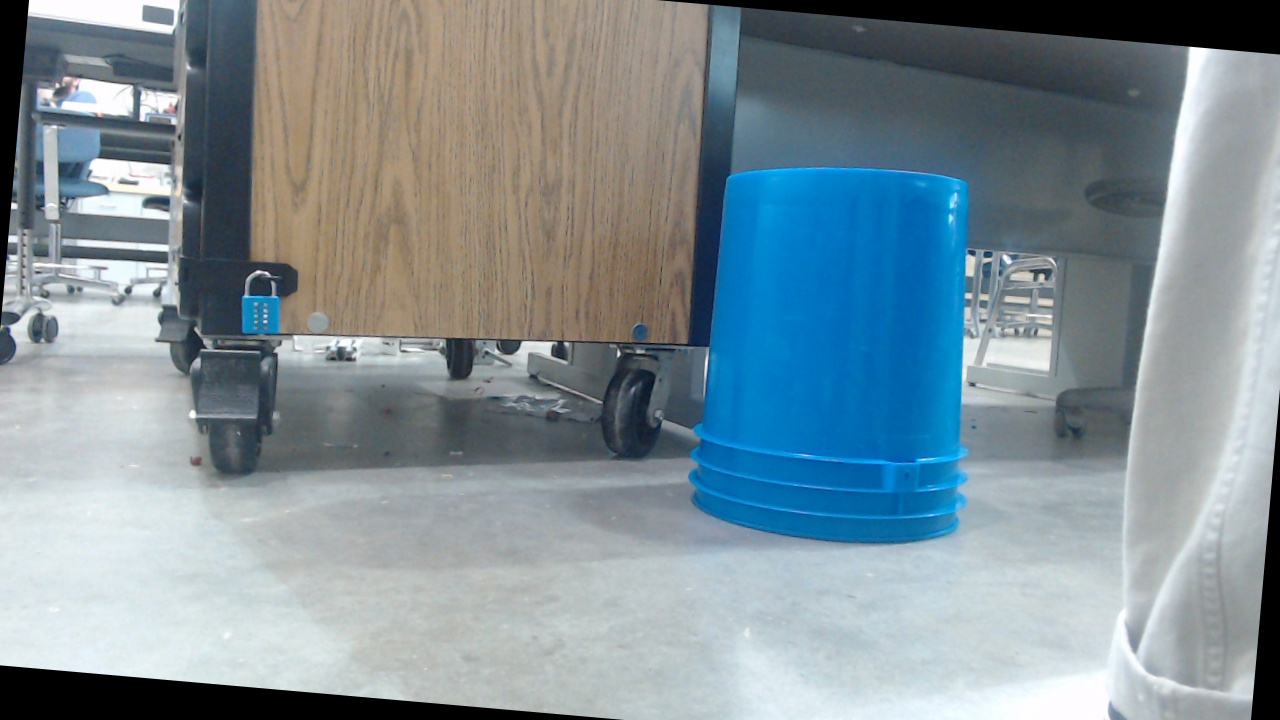blue_bucket: (679, 117, 1002, 529)
